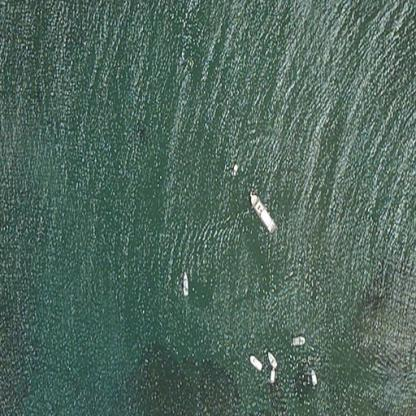ship: (242, 188, 281, 236), (176, 267, 194, 299), (245, 350, 264, 372), (262, 349, 282, 367), (305, 366, 321, 387), (288, 332, 307, 348), (226, 161, 243, 178), (265, 368, 280, 384)
